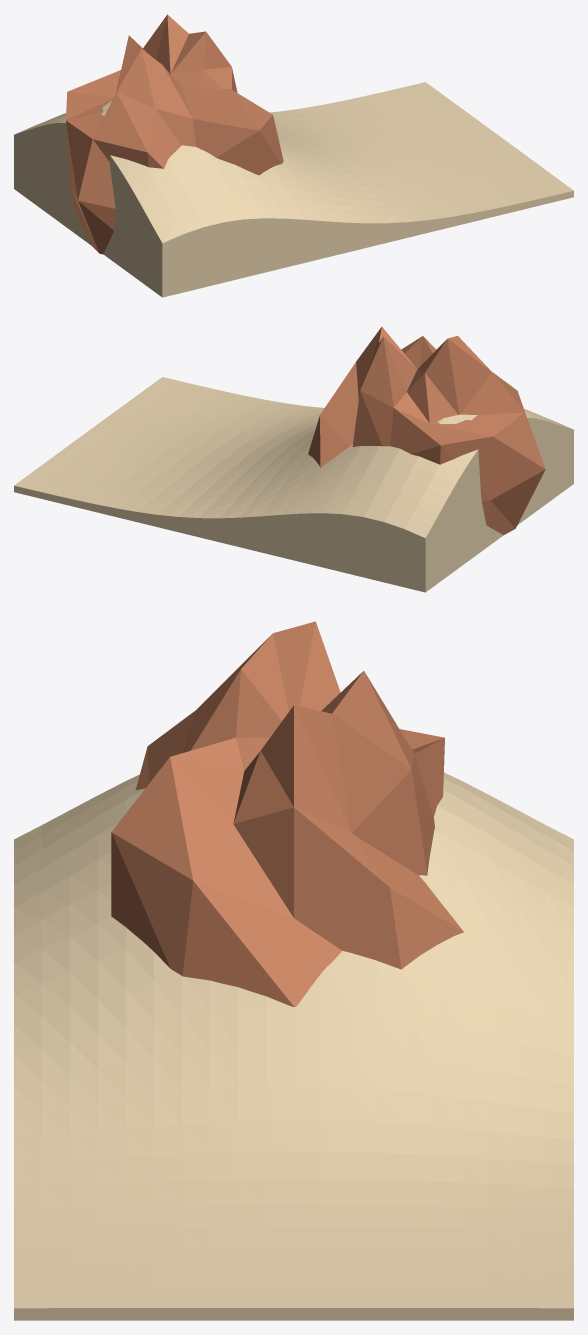
File: SandDriftAgainstRock.glb
3 renders of one model, top to bottom at view 1: azimuth 30°, elevation 25°; view 2: azimuth 150°, elevation 25°; view 3: azimuth 270°, elevation 25°, orthographic. The views are drawn at different scales.
Parts seen in each view (by area): view 1: sand-drift-against-rock; view 2: sand-drift-against-rock; view 3: sand-drift-against-rock.
Boxes of the visible parts, x1,y1,x2,y2 form: sand-drift-against-rock: (14, 14, 573, 297); sand-drift-against-rock: (14, 327, 573, 592); sand-drift-against-rock: (14, 621, 573, 1320).
Size of the model in its own units: 4.27 by 1.79 by 2.5.
